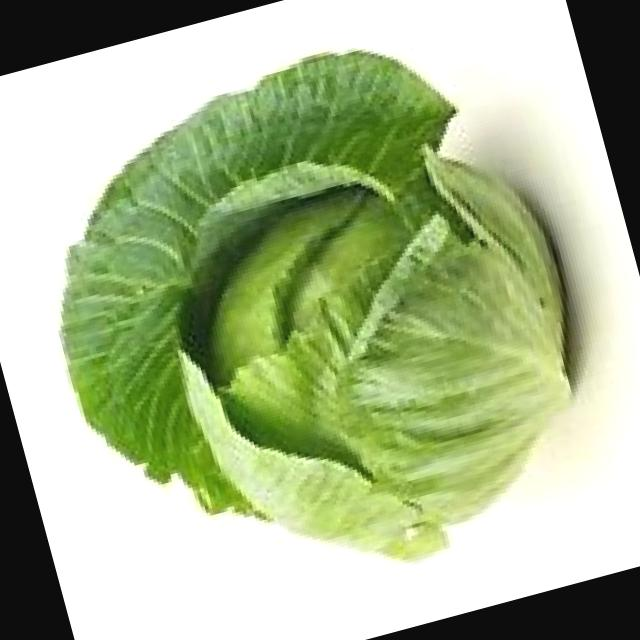cabbage: (126, 109, 632, 615)
